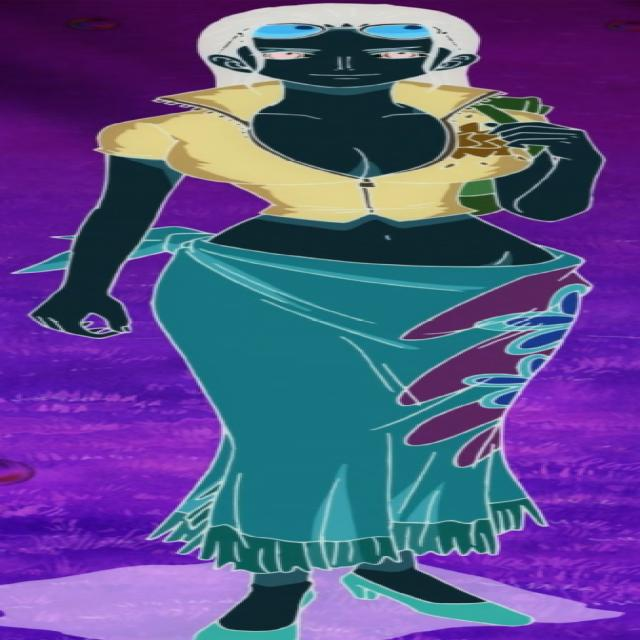Robin: (32, 4, 589, 640)
